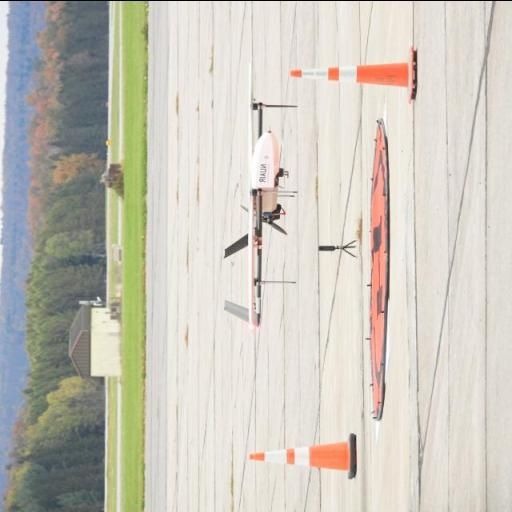uav: (220, 53, 298, 339)
